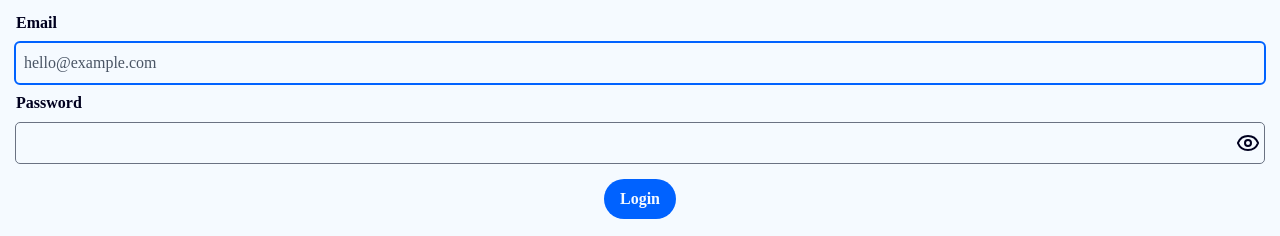
it: LoginForm Integration with API › shows toasts for network error
In the field labelled "Email": (640, 63) [16,43,1264,83], type "test@test.com"
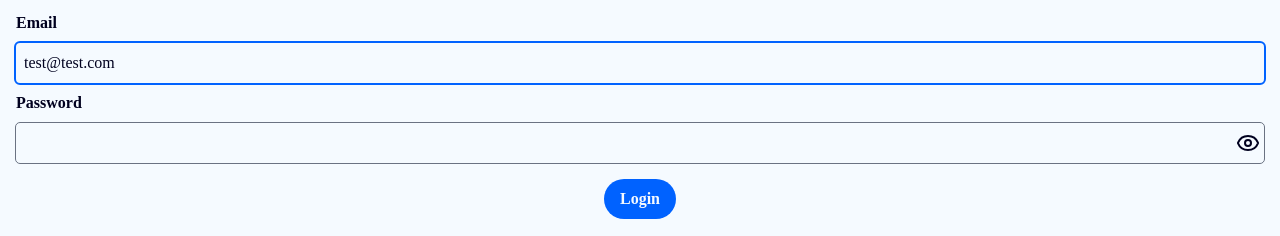
In the password field labelled "Password": (640, 143) [16,123,1264,163], type "Test@123"
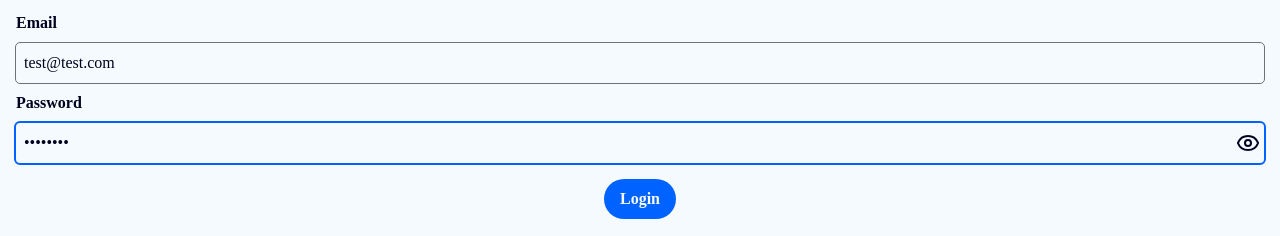
Click the button "Login": (640, 199) [604,179,676,219]
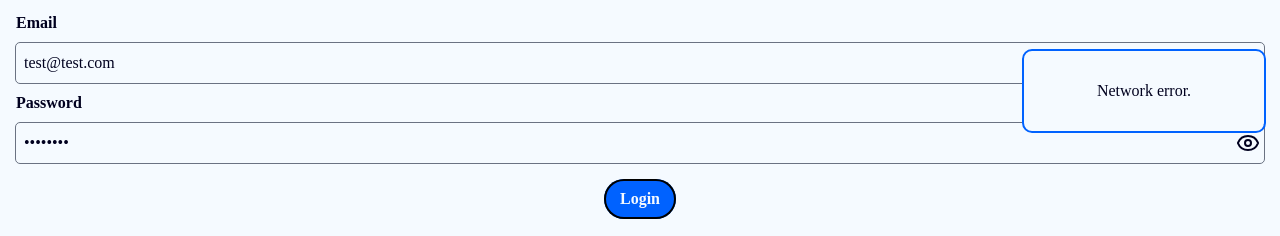
Now the text "Network error." is shown, box [1097,82,1191,99]
